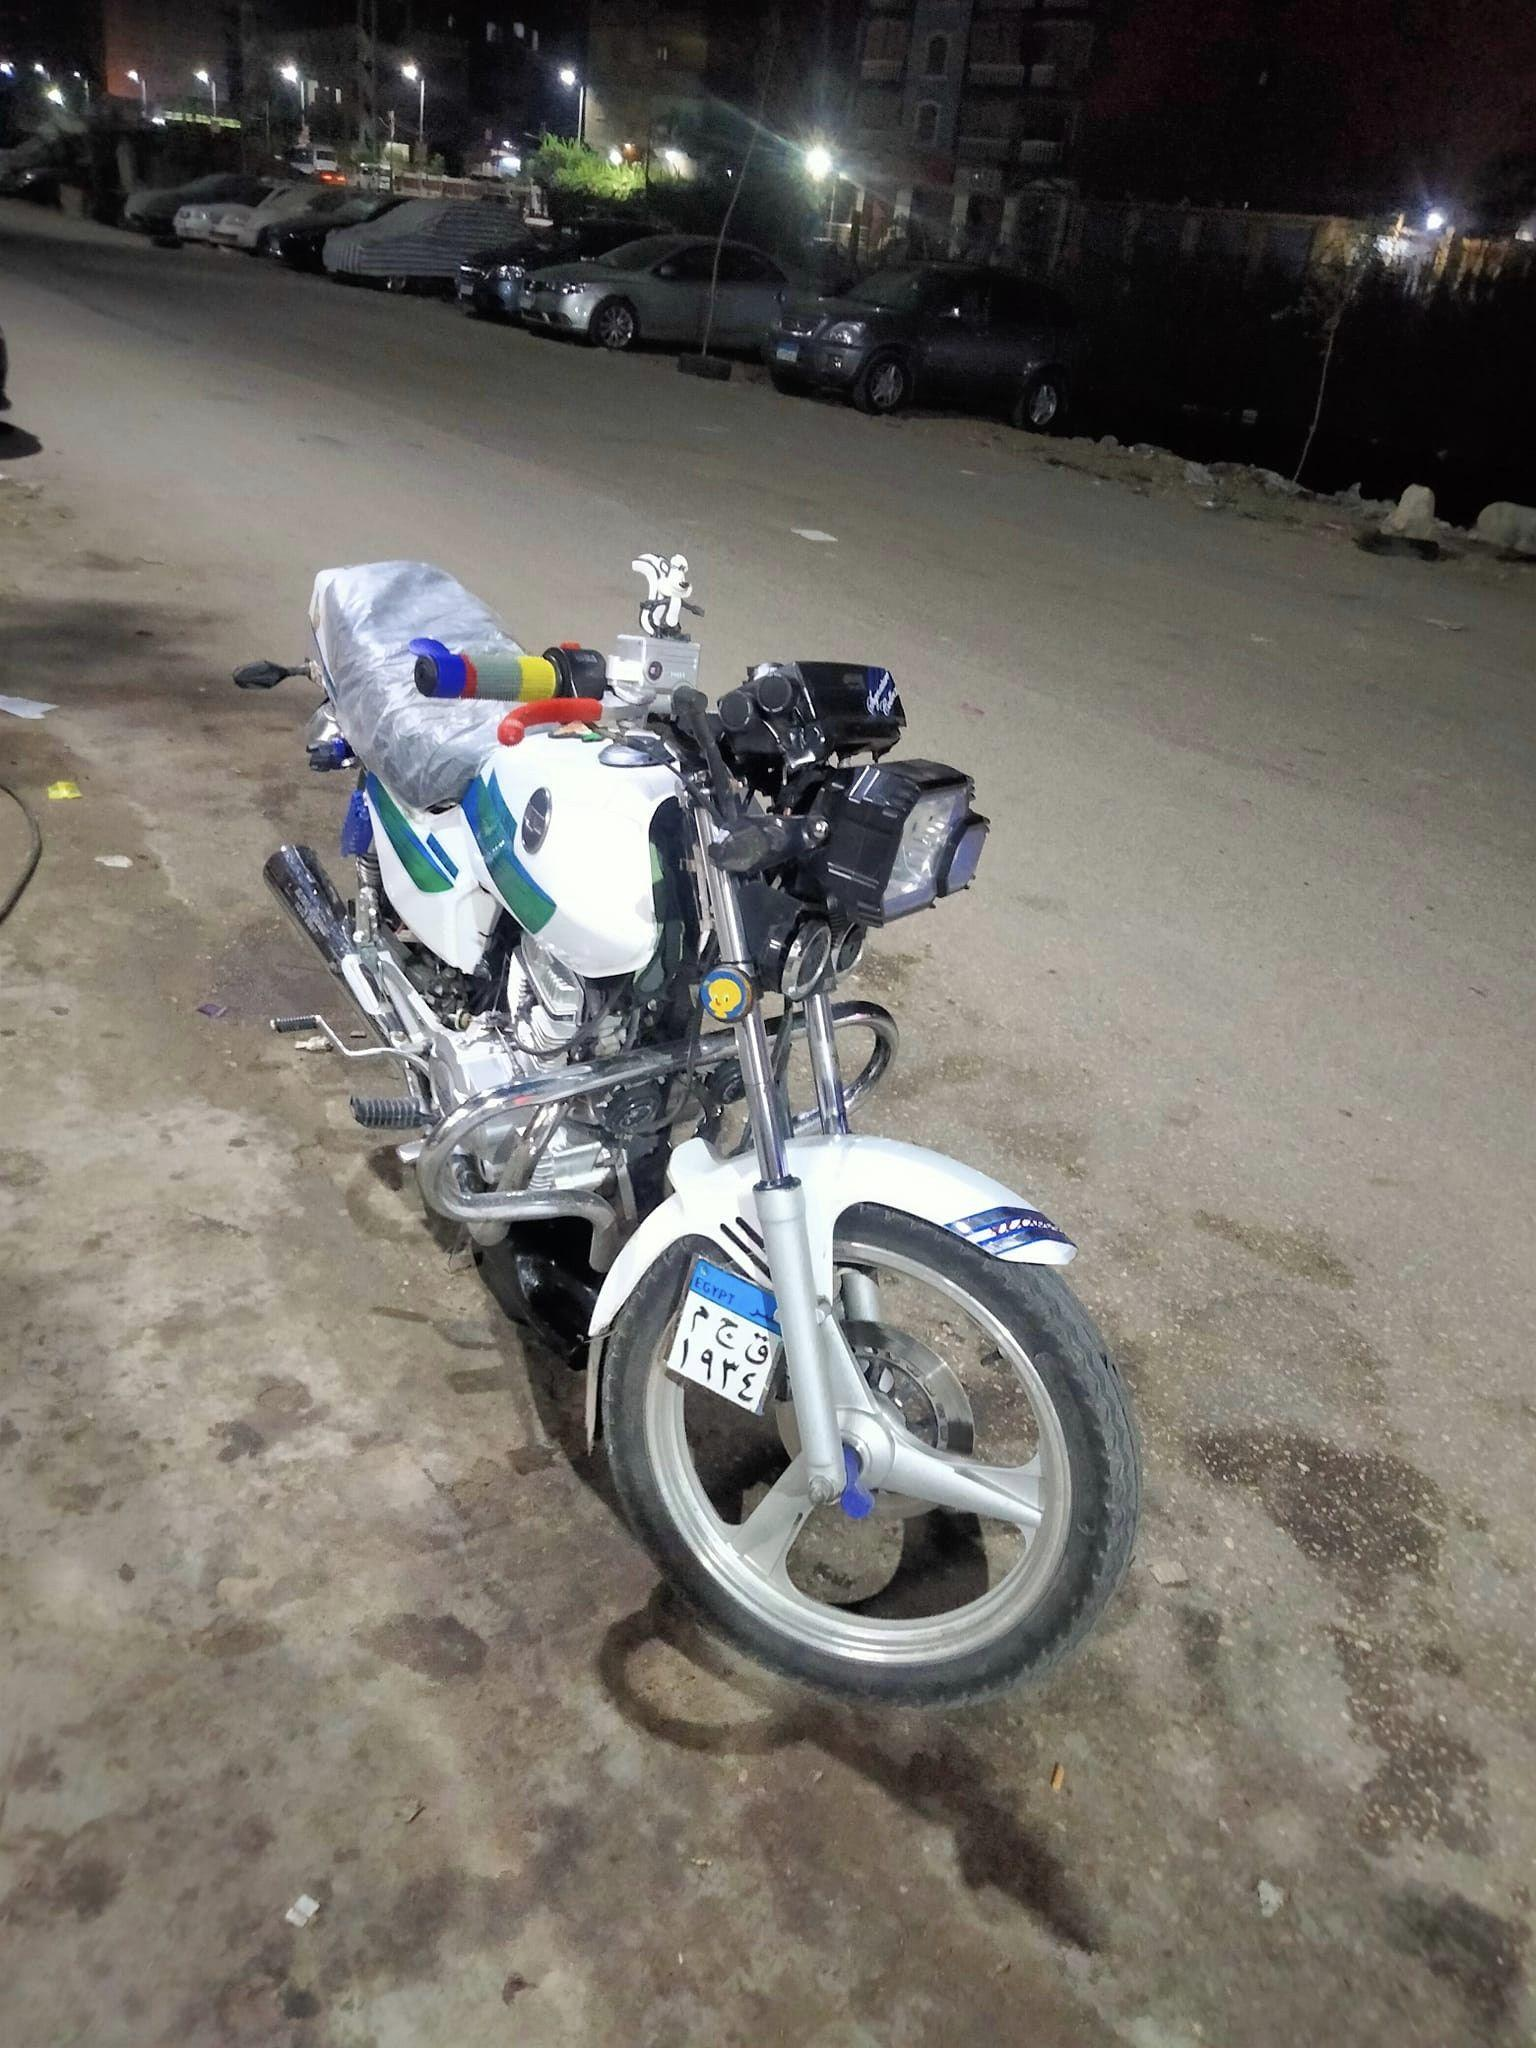License Plate: (657, 1256, 789, 1419)
